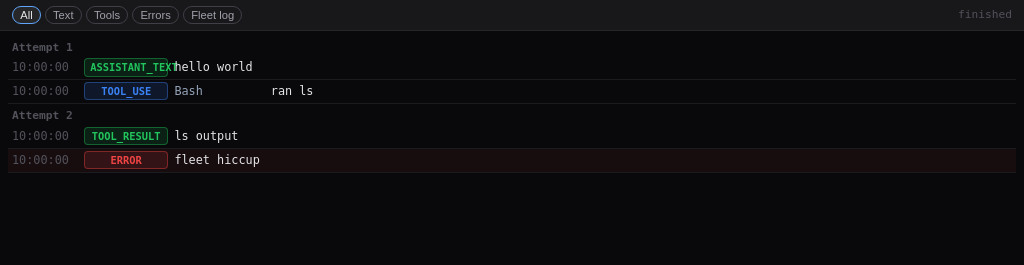
Scenario: ActivityTab › expands a row to show the raw JSON
Click the text "ran ls".
click(292, 91)  # box [271,84,314,98]
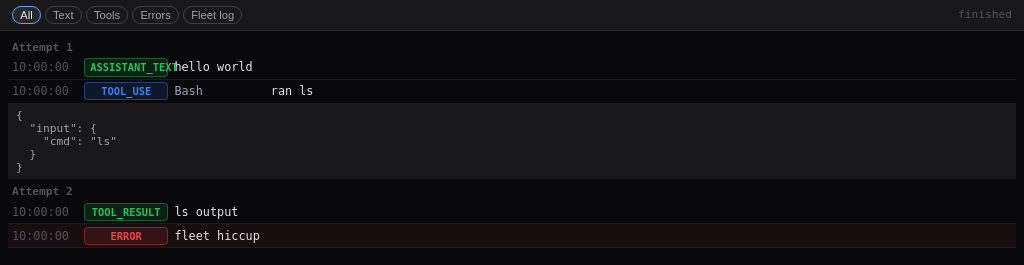
Now the text "{ \"input\": { \"cmd\": \"ls\" } }" is shown, box [16,109,117,174]
